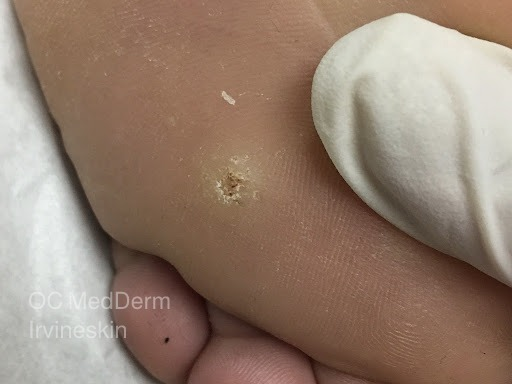Warts: (194, 137, 286, 232)
